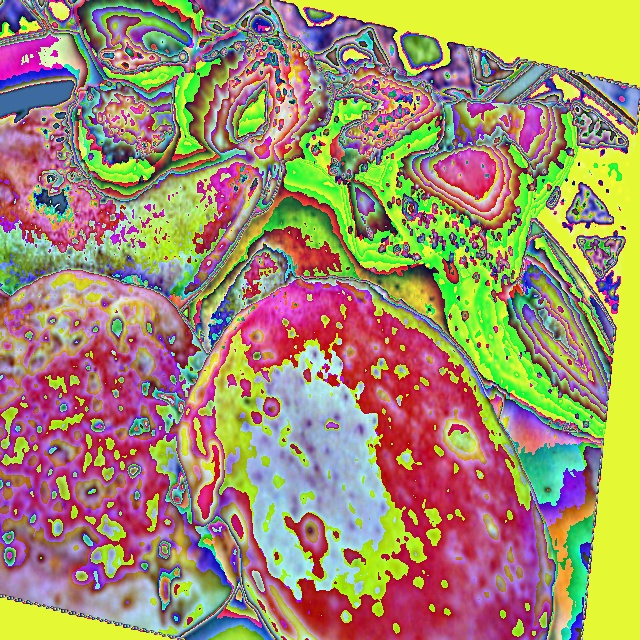background: (0, 0, 613, 640)
